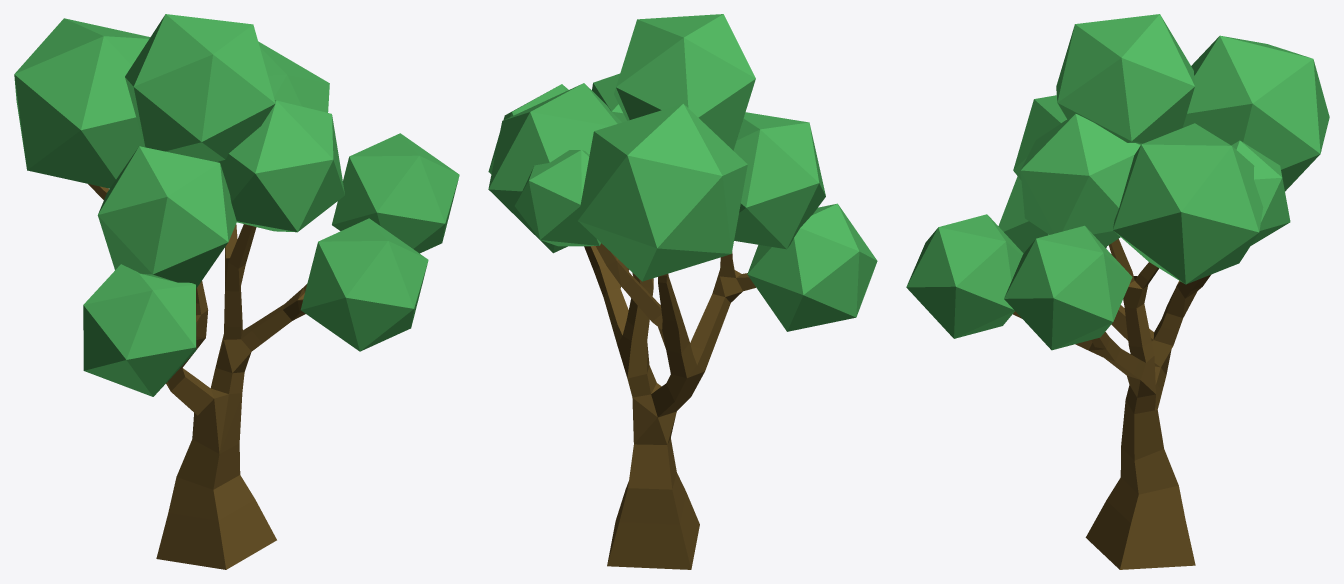
File: tree.glb
The picture shows the model from 3 angles, left to right: view 1: azimuth 30°, elevation 25°; view 2: azimuth 150°, elevation 25°; view 3: azimuth 270°, elevation 25°; orthographic projection. The views are drawn at different scales.
Visible parts, largest first — view 1: Cube, Icosphere.001, Icosphere.008, Icosphere.002, Icosphere.003, Icosphere.006, Icosphere, Icosphere.007, Icosphere.004; view 2: Cube, Icosphere.001, Icosphere.008, Icosphere, Icosphere.002, Icosphere.004, Icosphere.005, Icosphere.003, Icosphere.007; view 3: Cube, Icosphere.004, Icosphere.001, Icosphere.008, Icosphere.007, Icosphere.003, Icosphere.006, Icosphere.005, Icosphere.002, Icosphere.
Boxes of the visible parts, x1,y1,x2,y2 form: Cube: [88, 184, 306, 569]; Icosphere.001: [14, 18, 150, 188]; Icosphere.008: [125, 14, 275, 161]; Icosphere.002: [97, 146, 236, 288]; Icosphere.003: [217, 100, 344, 232]; Icosphere.006: [300, 218, 428, 351]; Icosphere: [83, 264, 196, 396]; Icosphere.007: [332, 133, 459, 253]; Icosphere.004: [258, 41, 329, 112]; Cube: [584, 243, 755, 569]; Icosphere.001: [577, 103, 747, 281]; Icosphere.008: [614, 14, 755, 150]; Icosphere: [747, 203, 877, 331]; Icosphere.002: [733, 112, 825, 249]; Icosphere.004: [488, 83, 621, 253]; Icosphere.005: [515, 150, 600, 246]; Icosphere.003: [592, 73, 626, 122]; Icosphere.007: [488, 84, 568, 174]; Cube: [1013, 239, 1211, 569]; Icosphere.004: [1113, 123, 1263, 284]; Icosphere.001: [1182, 35, 1329, 191]; Icosphere.008: [1056, 14, 1194, 144]; Icosphere.007: [1004, 225, 1132, 350]; Icosphere.003: [1020, 114, 1140, 247]; Icosphere.006: [906, 214, 1023, 338]; Icosphere.005: [1231, 140, 1290, 245]; Icosphere.002: [1013, 95, 1066, 180]; Icosphere: [998, 176, 1106, 253].
Bounding box in the file's own units: 6.66 × 9.35 × 6.86.
